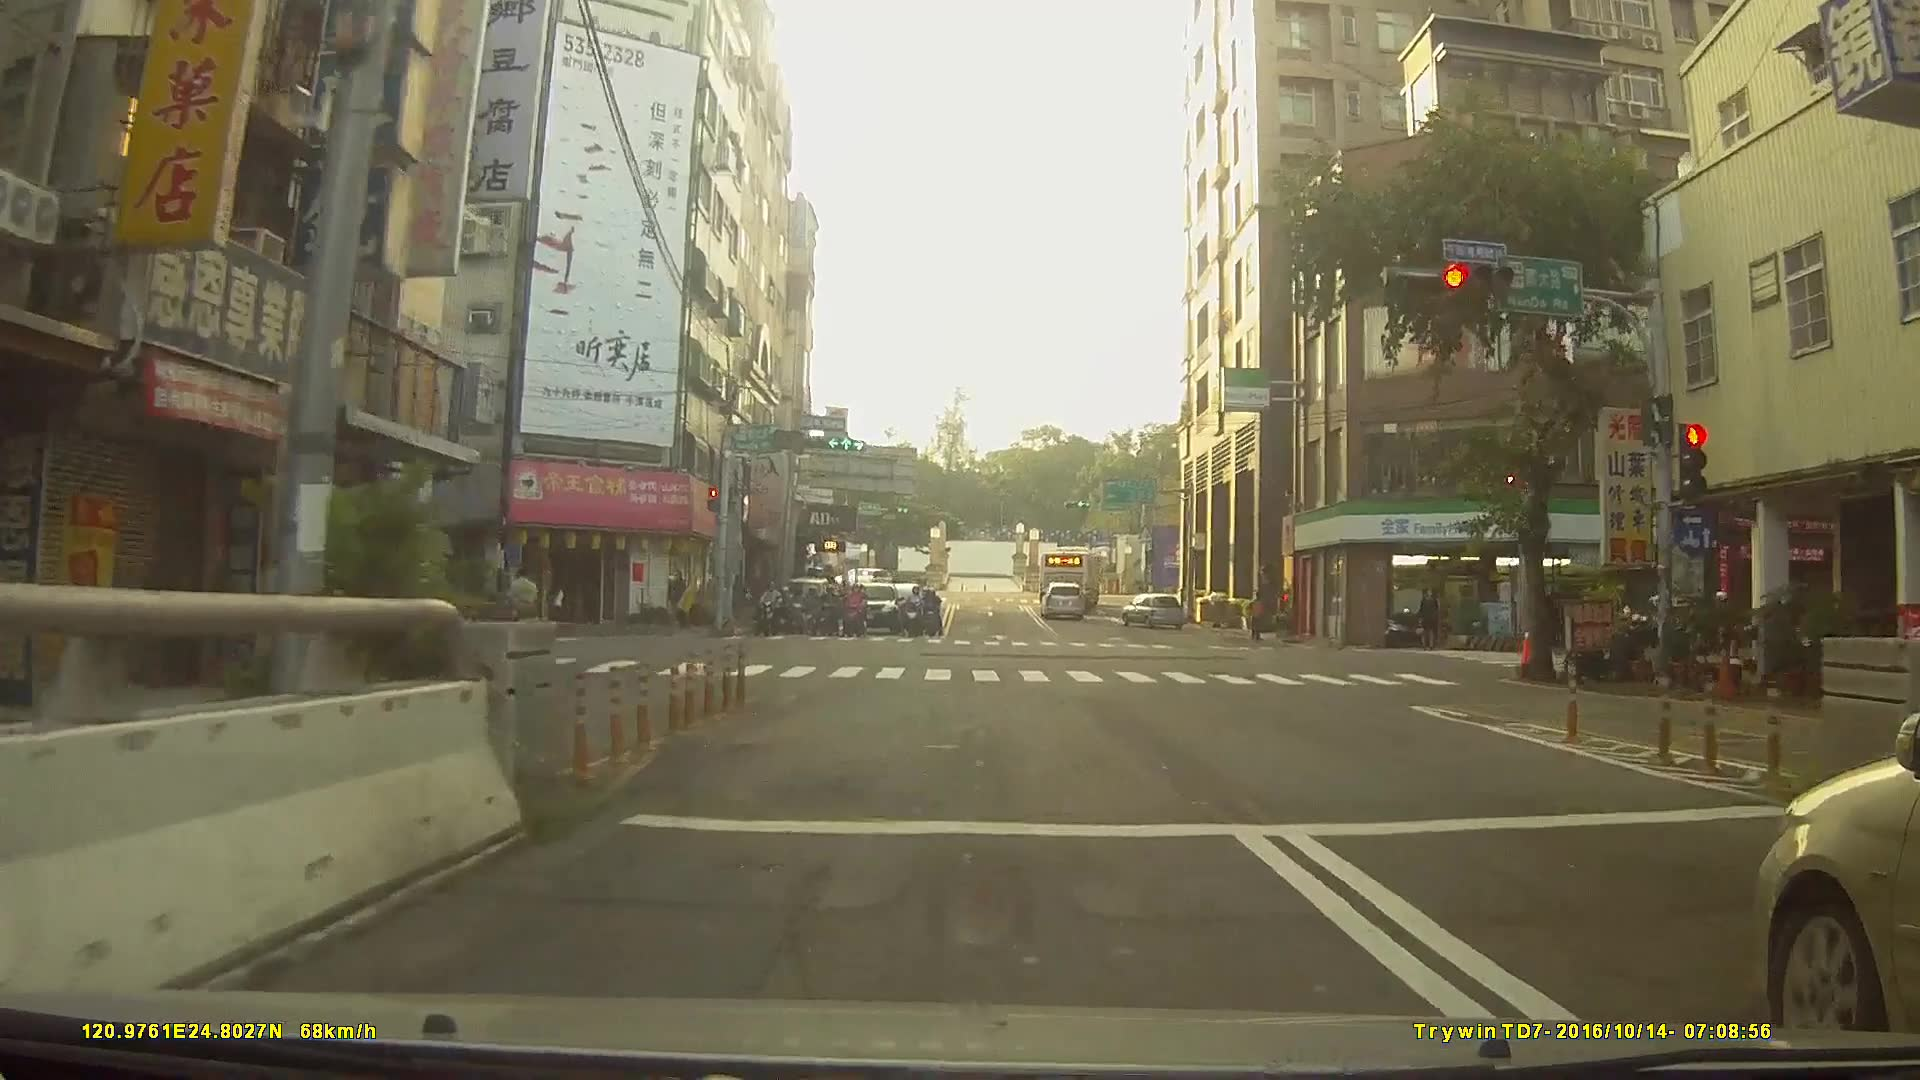pedestrian: (503, 562, 545, 661), (1410, 584, 1436, 650), (1248, 591, 1268, 644), (552, 579, 572, 628)
rider: (756, 578, 785, 639), (840, 584, 868, 640), (819, 583, 843, 640), (788, 586, 813, 637), (903, 585, 926, 638), (921, 595, 942, 647)
vehicle: (1038, 542, 1106, 608), (843, 581, 902, 639), (1119, 589, 1185, 628), (1039, 580, 1089, 619), (835, 563, 891, 590)
